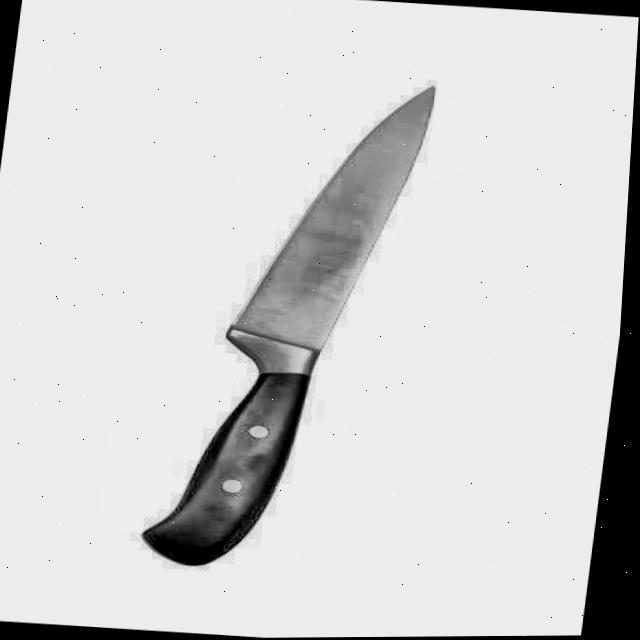pisau: (97, 59, 455, 587)
